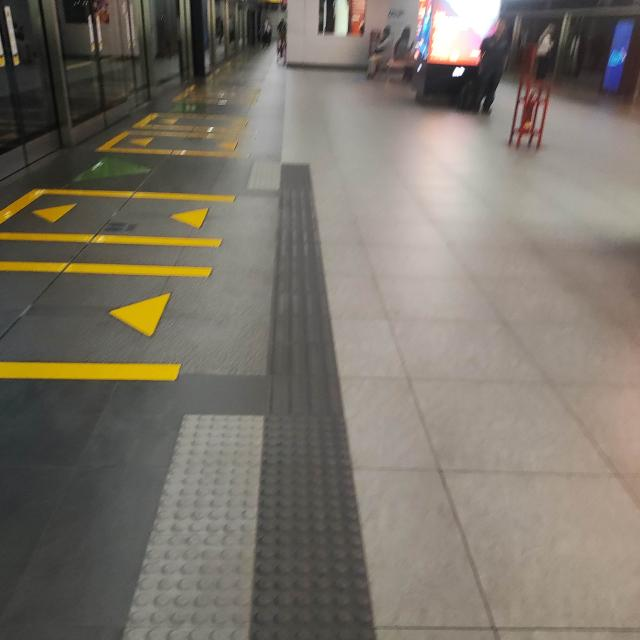lurus: (266, 170, 363, 640)
